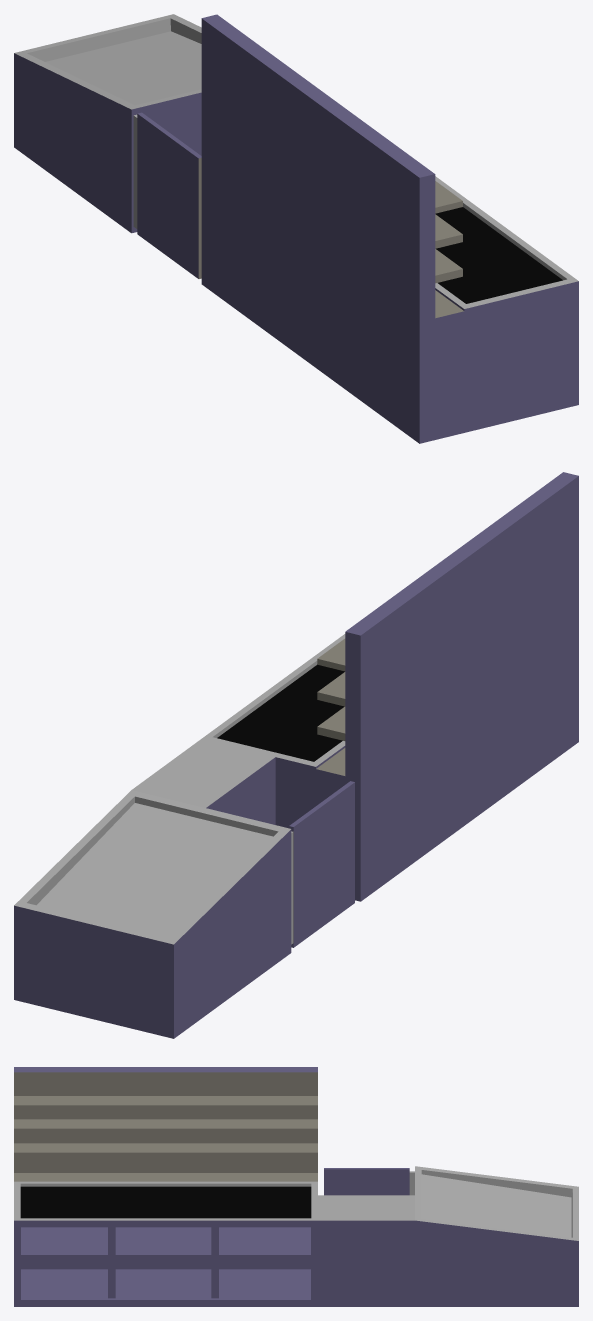
Rendered from S.ConveyorBeltCashArea.fbx.
3 views of the same model, one above another, from view 1: azimuth 30°, elevation 25°; view 2: azimuth 150°, elevation 25°; view 3: azimuth 270°, elevation 25° (orthographic). The views are drawn at different scales.
Visible parts, largest first — view 1: Cube.004; view 2: Cube.004; view 3: Cube.004.
Part boxes in pixels (x1,y1,x2,y2): Cube.004: [14, 14, 578, 443]; Cube.004: [14, 472, 578, 1038]; Cube.004: [14, 1067, 578, 1306].
Bounding box in the file's own units: 275 × 437 × 1207.
